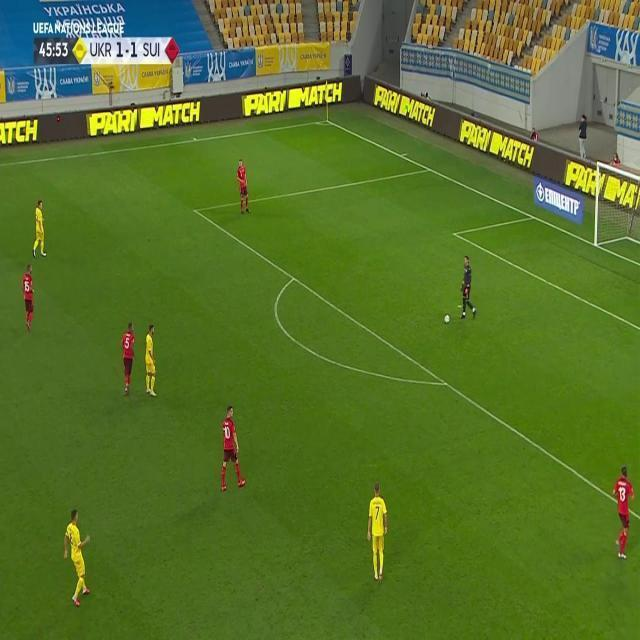ball: (444, 312, 451, 325)
goalkeeper: (458, 252, 476, 320)
player: (62, 508, 91, 606), (611, 465, 636, 561), (219, 405, 244, 494), (367, 480, 387, 584), (119, 321, 137, 398), (143, 323, 158, 398), (21, 263, 36, 334), (32, 199, 48, 259), (236, 156, 251, 216)
